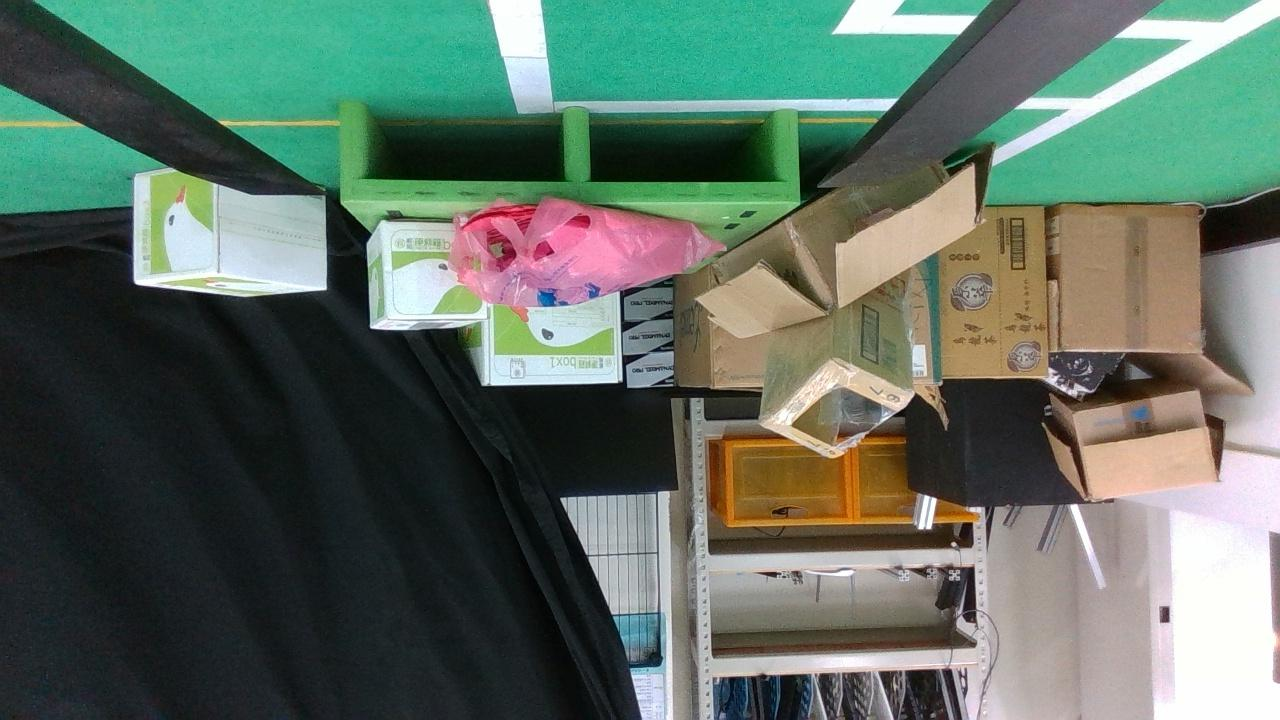Pallet: (338, 103, 799, 207)
